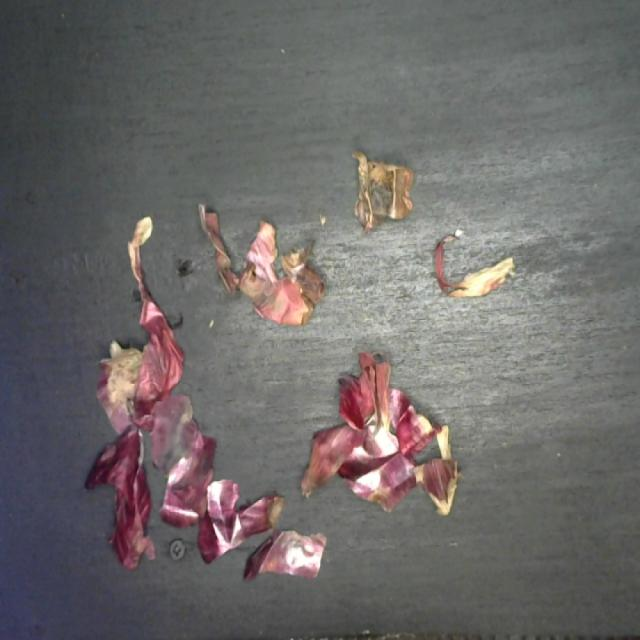biodegradable: (81, 146, 518, 586)
